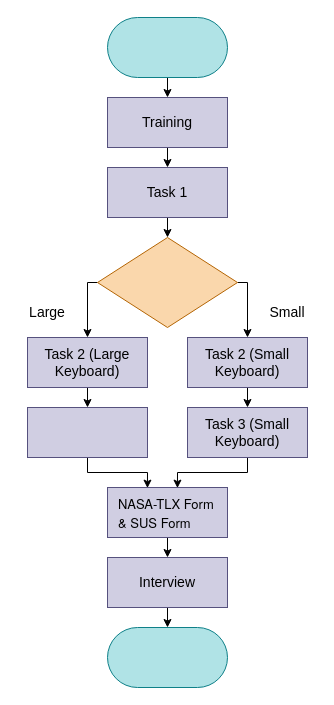
This 334x705 diagram has some shape labels left out. The box of each missing label's shape, as (x1, y1, x2, y2) in pixels:
Experiment End: (106, 626, 228, 688)
Experiment Start: (106, 16, 228, 78)
Small keybord or Large keyboard?: (96, 236, 238, 328)
Task 3 (Large Keyboard): (26, 406, 148, 458)
